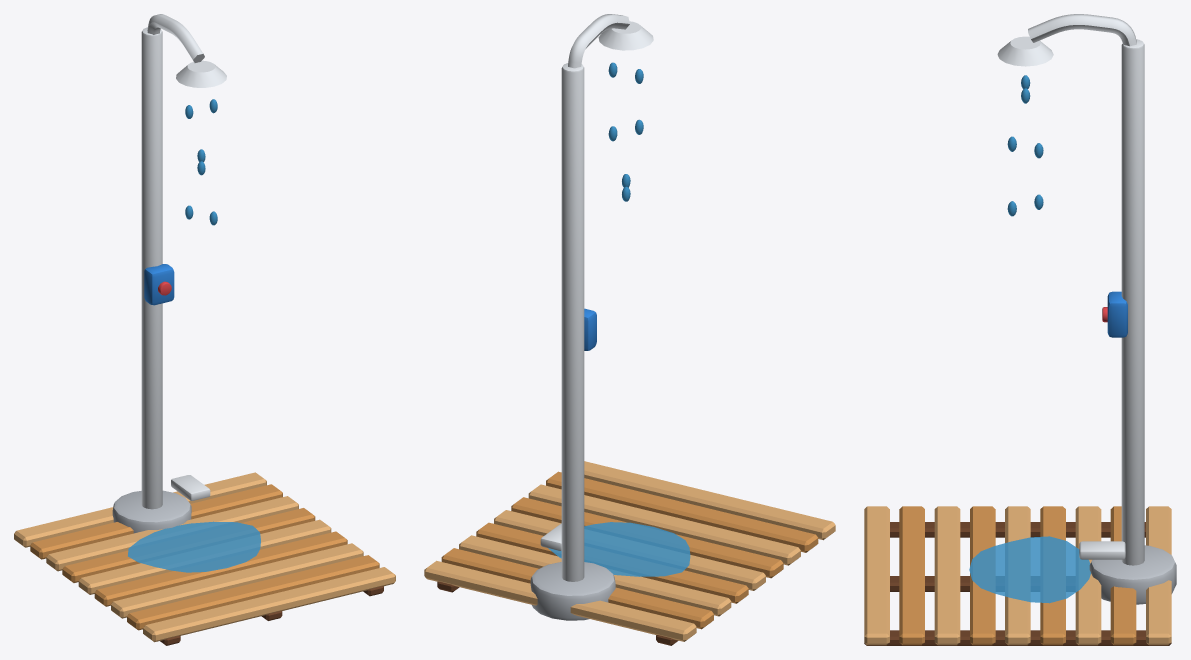
The model's file is chuveirinho_praia.glb.
The picture shows the model from 3 angles, left to right: view 1: azimuth 30°, elevation 25°; view 2: azimuth 150°, elevation 25°; view 3: azimuth 270°, elevation 25°; orthographic projection. The views are drawn at different scales.
Visible parts, largest first — view 1: chuveirinho_praia; view 2: chuveirinho_praia; view 3: chuveirinho_praia.
Part boxes in pixels (x1,y1,x2,y2): chuveirinho_praia: (14,14,395,645); chuveirinho_praia: (424,14,835,645); chuveirinho_praia: (864,14,1176,645).
Size of the model in its own units: 1.2 by 2.47 by 1.22.
Materials: 2 (1 with a texture image).
